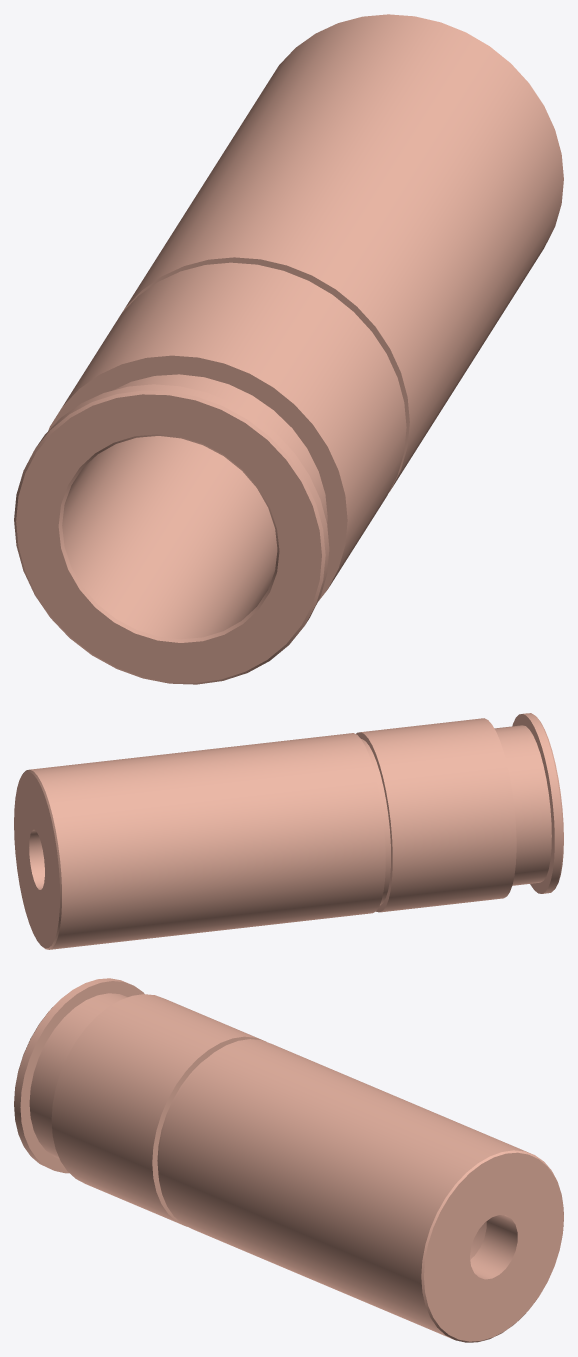
Rendered from 10.4_truba-kontakta-tk-1600.glb.
The picture shows the model from 3 angles, top to bottom: view 1: azimuth 30°, elevation 25°; view 2: azimuth 150°, elevation 25°; view 3: azimuth 270°, elevation 25°; orthographic projection. The views are drawn at different scales.
Parts seen in each view (by area): view 1: 10.4_truba-kontakta-tk-1600; view 2: 10.4_truba-kontakta-tk-1600; view 3: 10.4_truba-kontakta-tk-1600.
Part boxes in pixels (bbox=[...]): 10.4_truba-kontakta-tk-1600: bbox=[14, 14, 563, 684]; 10.4_truba-kontakta-tk-1600: bbox=[14, 713, 563, 949]; 10.4_truba-kontakta-tk-1600: bbox=[14, 978, 563, 1342].
Size of the model in its own units: 150 by 54.99 by 150.
